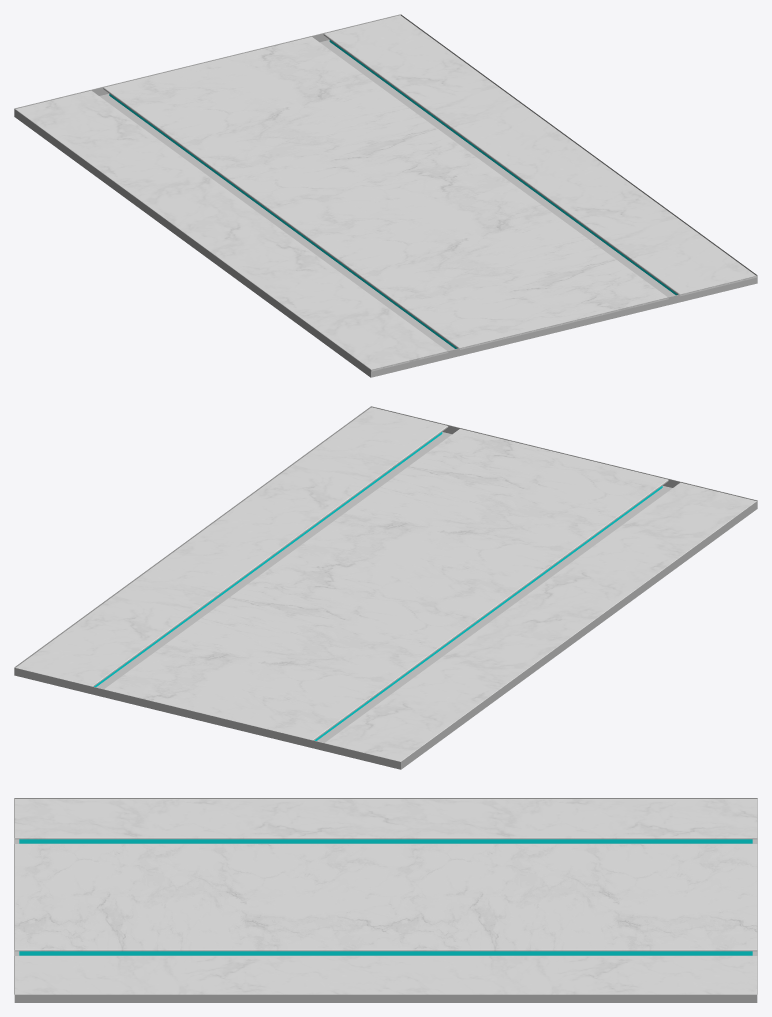
3 views of the same model, one above another, from view 1: azimuth 30°, elevation 25°; view 2: azimuth 150°, elevation 25°; view 3: azimuth 270°, elevation 25° (orthographic). The views are drawn at different scales.
Parts seen in each view (by area): view 1: M_C_003_a_10x16; view 2: M_C_003_a_10x16; view 3: M_C_003_a_10x16.
Part boxes in pixels (bbox=[...]): M_C_003_a_10x16: bbox=[14, 14, 757, 377]; M_C_003_a_10x16: bbox=[14, 406, 757, 769]; M_C_003_a_10x16: bbox=[14, 798, 757, 1002].
Size of the model in its own units: 10 by 0.2 by 16.
